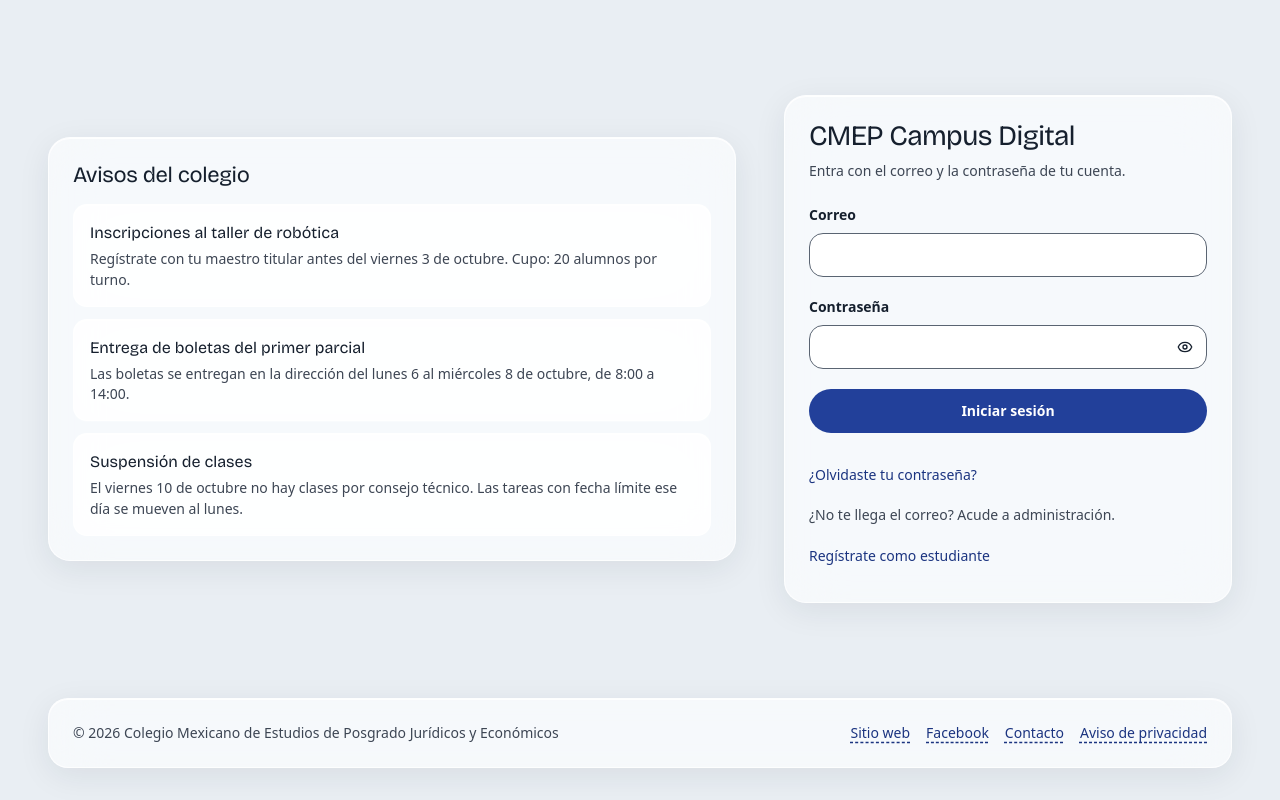
ataque (DESIGN-01b-1 r1): un solo pie al navegar entre pantallas › login → estudiante tras iniciar sesión: nunca dos pies; al final, el del marco
Expected: the button "Iniciar sesión" is shown, [809,389,1207,433]
Expected: the number of footers is 1, [48,698,1232,768]
Type "ana@ejemplo.mx" into the field labelled "Correo". click: (1008, 255)
box: [809,233,1207,277]
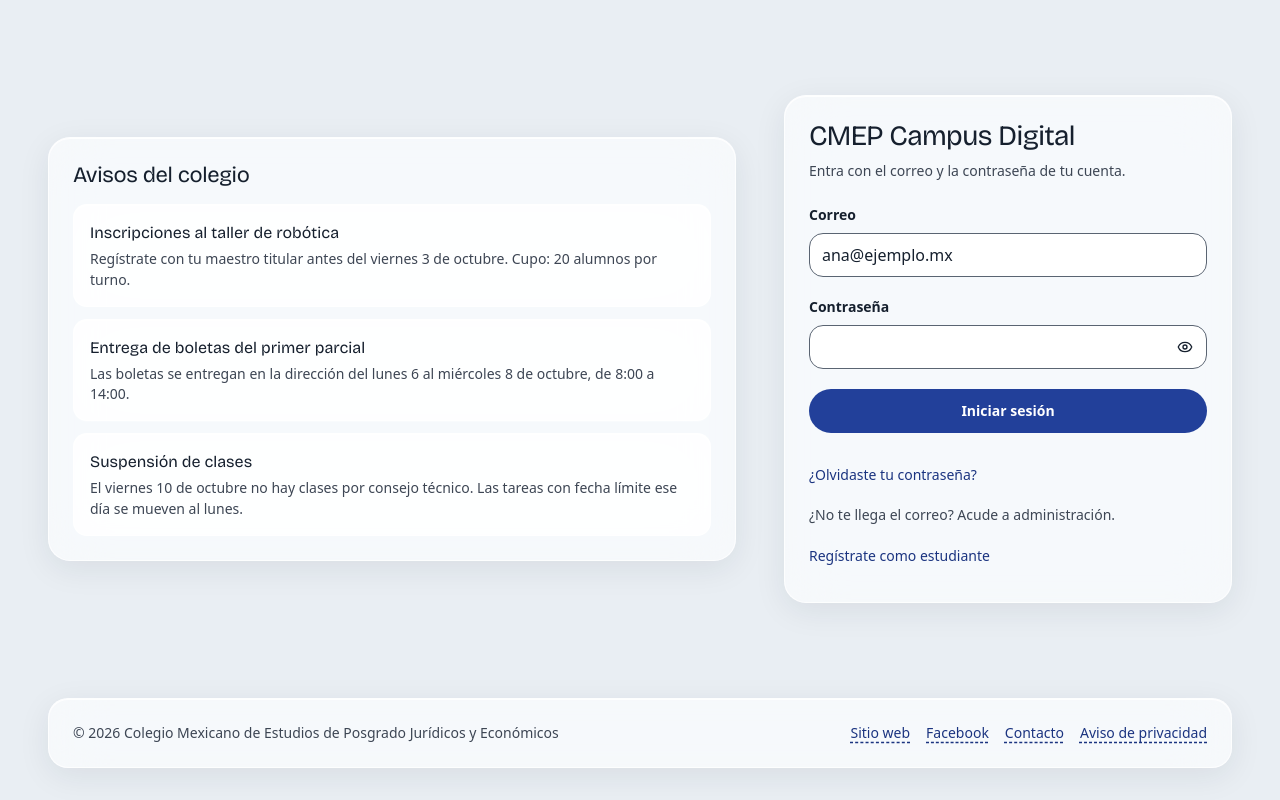
Type "clave-de-prueba-1234" into the password field labelled "Contraseña". click: (1008, 347)
box: [809,325,1207,369]
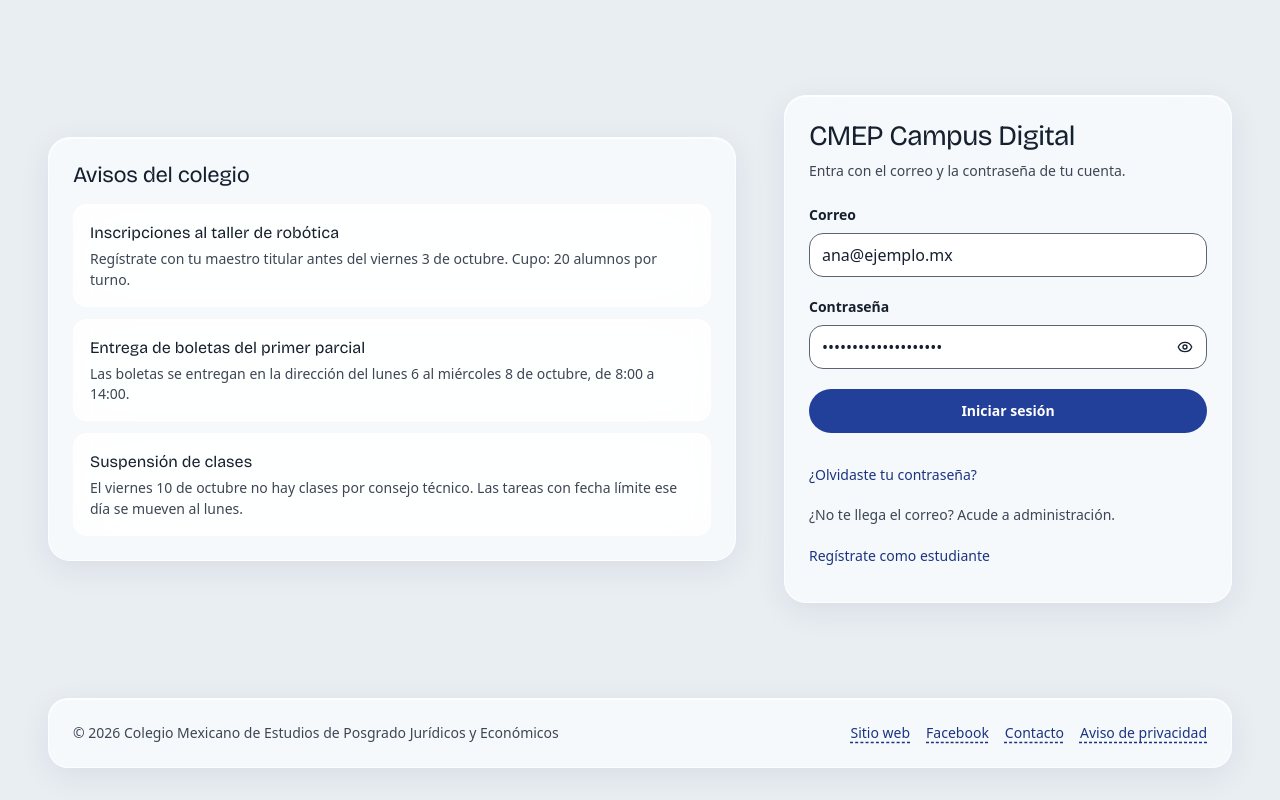
Click the button "Iniciar sesión". click: (1008, 411)
box: [809,389,1207,433]
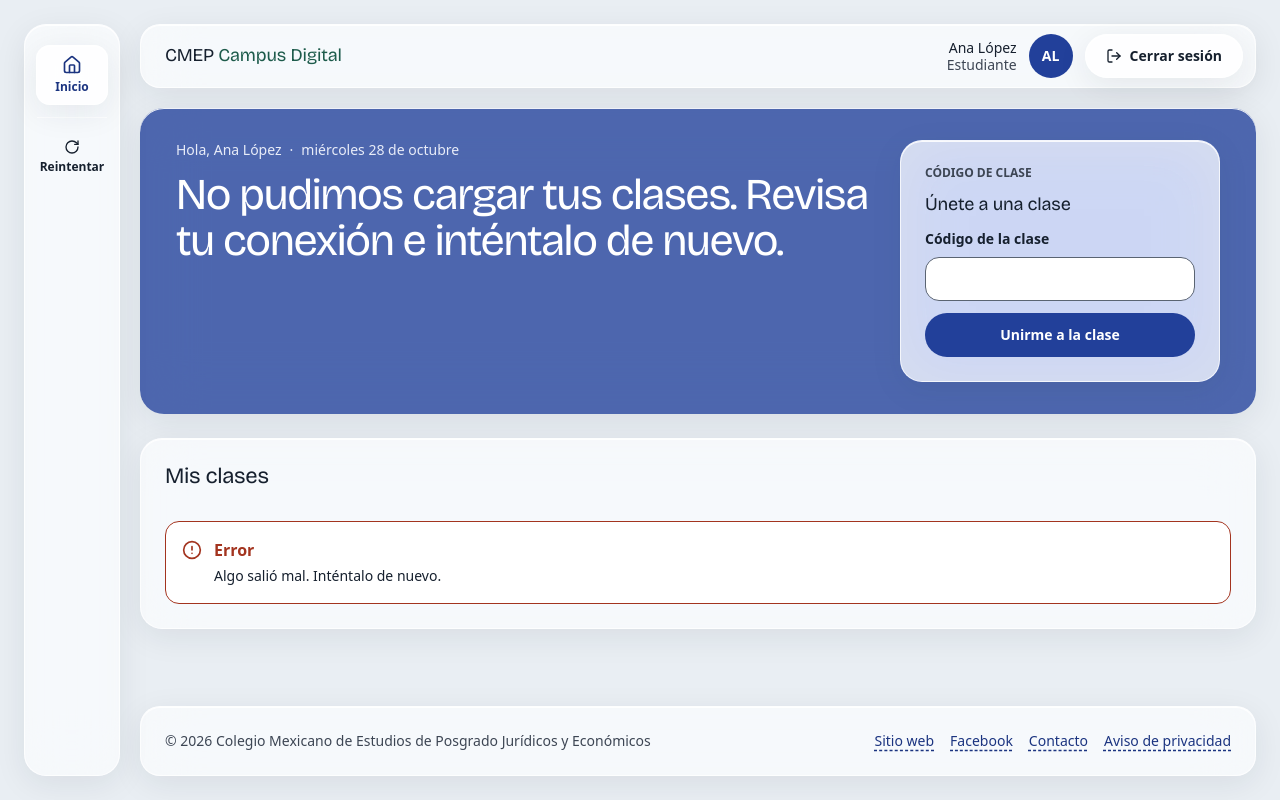
Expected: the number of footers is 1, [140,706,1256,776]
Expected: the text "Hola, Ana López" is shown, [176,140,282,160]
Expected: the element that starts with "Inicio" is shown
